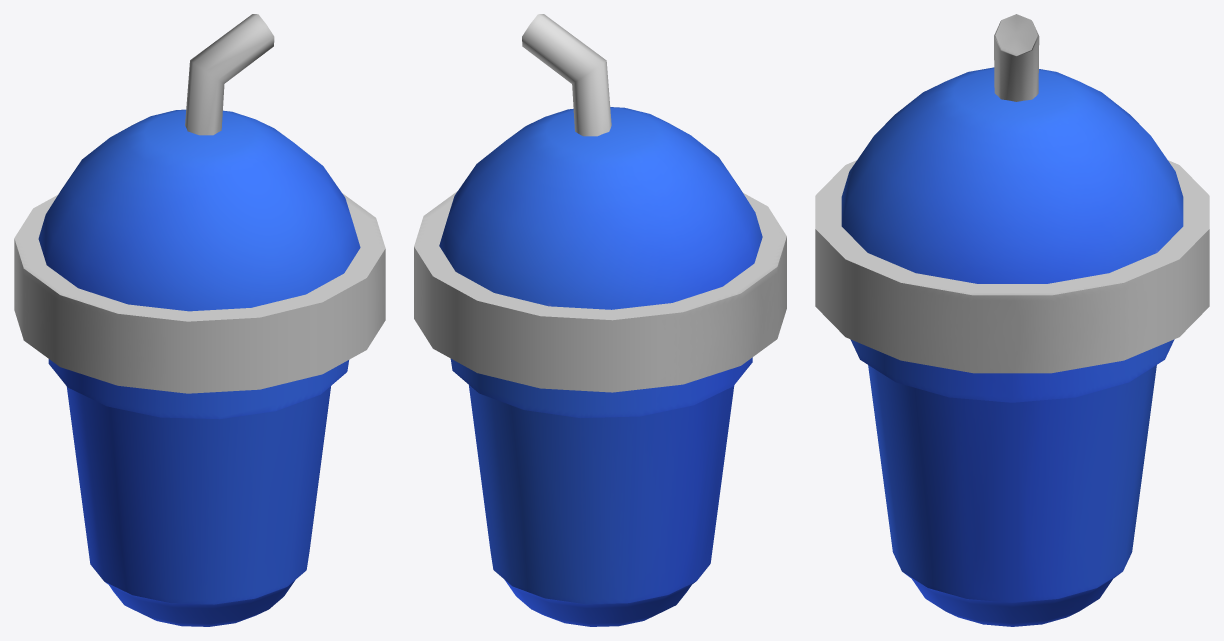
File: model_Coffee_Matcha.fbx
3 views of the same model, side by side, from view 1: azimuth 30°, elevation 25°; view 2: azimuth 150°, elevation 25°; view 3: azimuth 270°, elevation 25° (orthographic). The views are drawn at different scales.
Parts seen in each view (by area): view 1: model_Coffee_Matcha; view 2: model_Coffee_Matcha; view 3: model_Coffee_Matcha.
Part boxes in pixels (left/top/right/bottom): model_Coffee_Matcha: left=14, top=14, right=385, bottom=626; model_Coffee_Matcha: left=414, top=14, right=786, bottom=626; model_Coffee_Matcha: left=815, top=14, right=1209, bottom=626.
Size of the model in its own units: 41.58 by 71.27 by 41.58.
